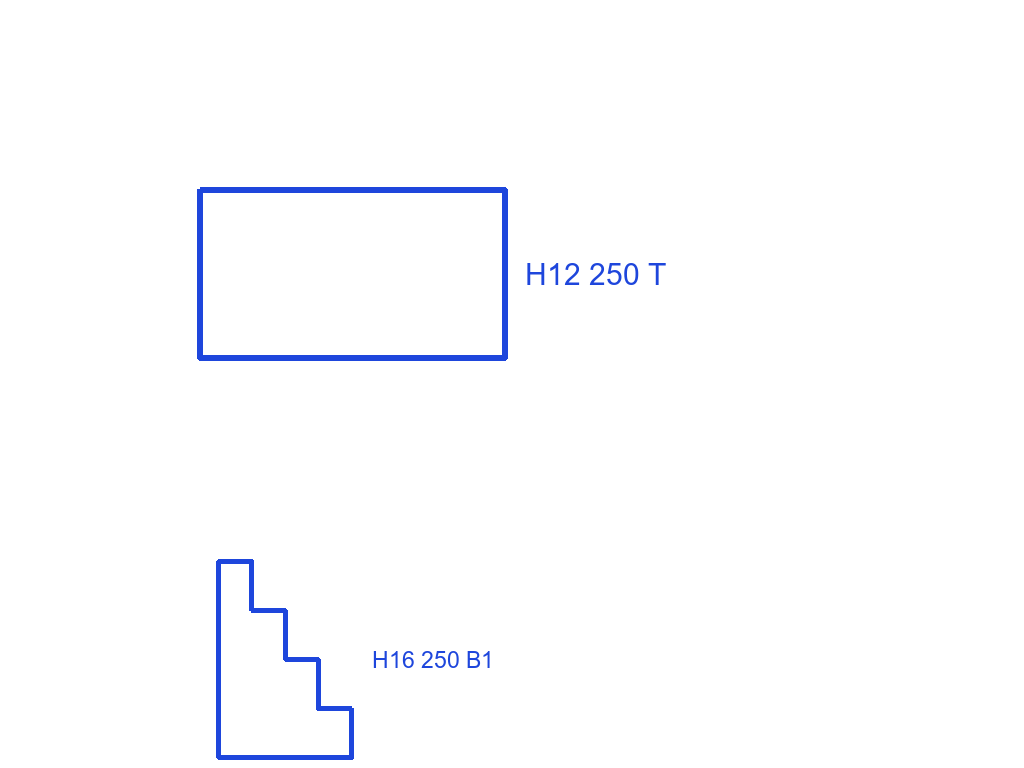shape: (195, 185, 510, 364), (214, 557, 356, 762)
text: (523, 261, 668, 287), (370, 649, 496, 670)
